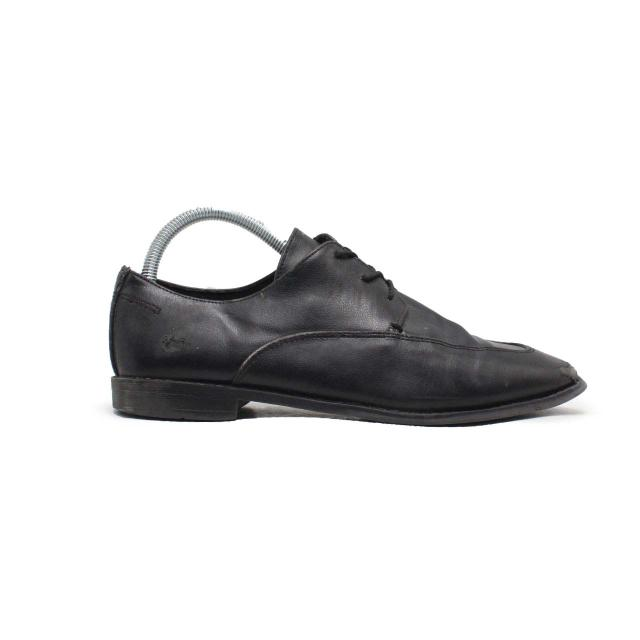heel: (111, 266, 191, 385)
midsole: (110, 374, 586, 428)
uppersole: (188, 236, 577, 412)
